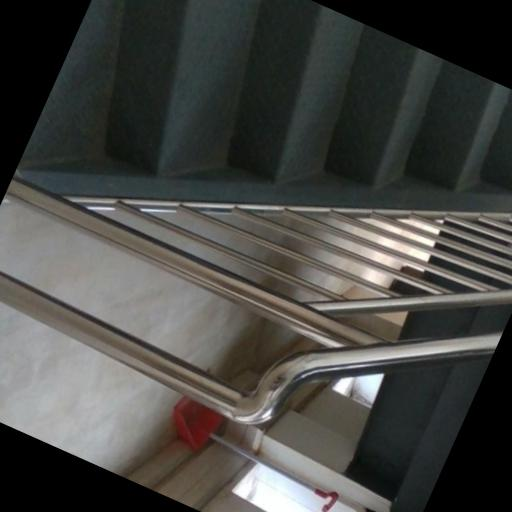stairs: (18, 0, 511, 190), (345, 356, 491, 511)
